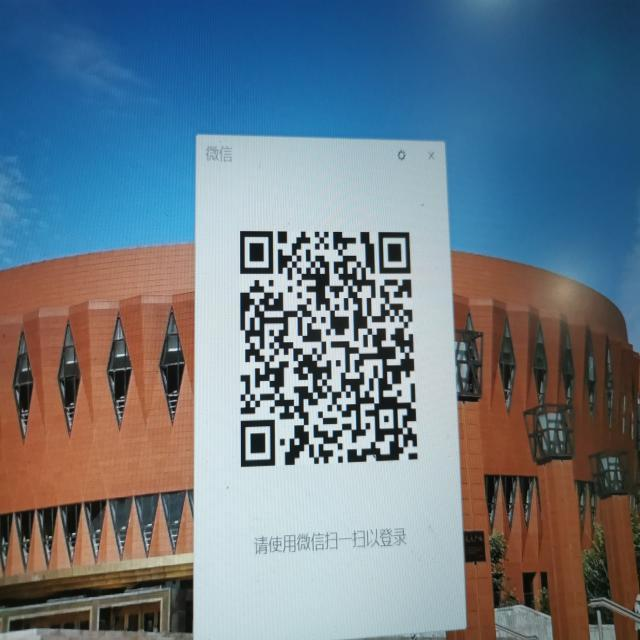qr_code: (240, 231, 418, 468)
